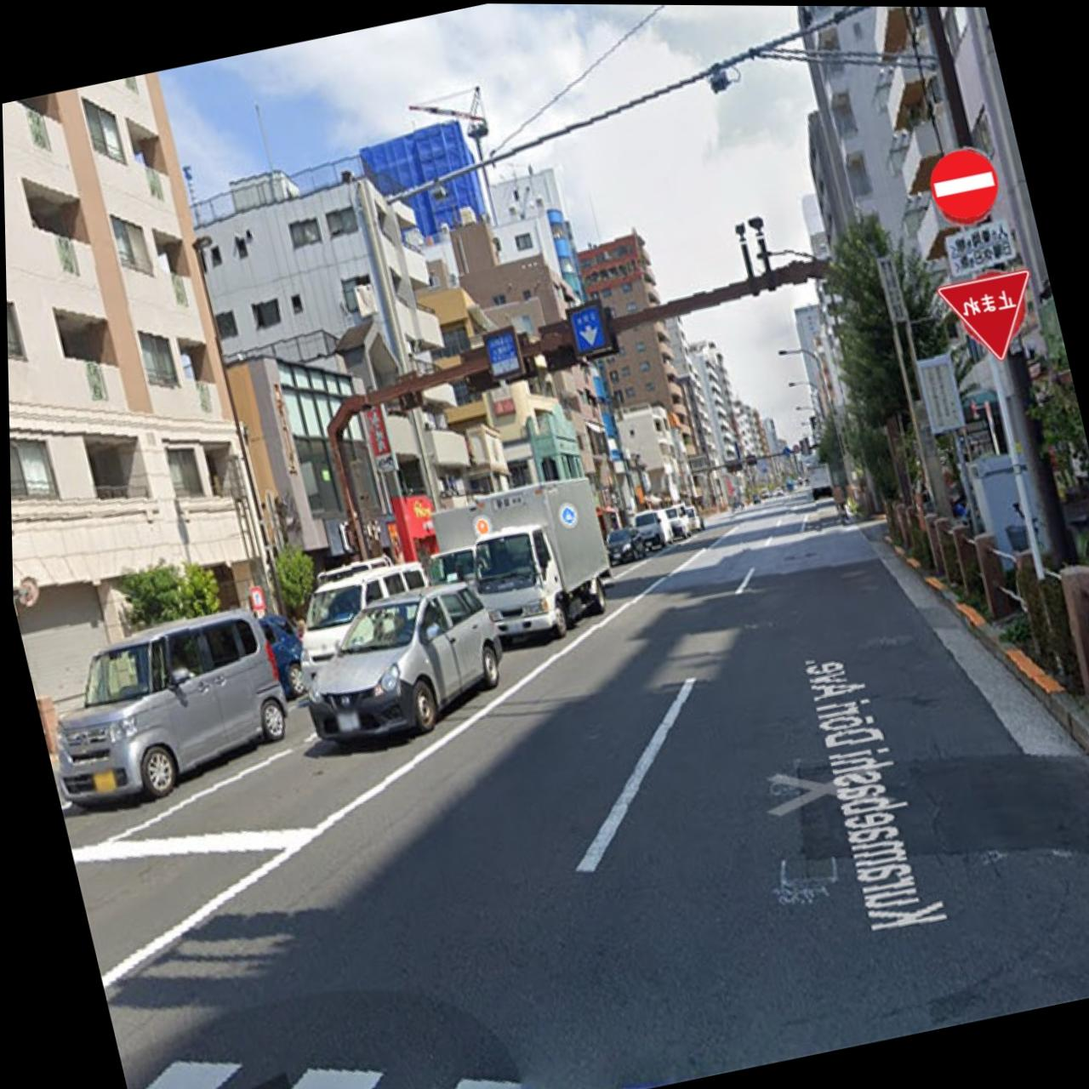barrier: (920, 140, 1008, 227)
